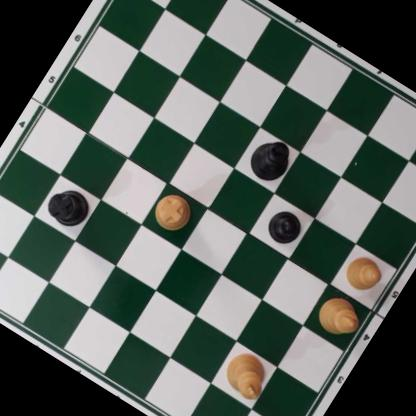black-king: (243, 130, 299, 188)
black-pawn: (262, 203, 308, 250)
black-rook: (41, 181, 96, 234)
white-bishop: (312, 289, 369, 345)
white-king: (218, 346, 276, 403)
white-pawn: (338, 249, 387, 298)
white-rook: (147, 187, 198, 238)
